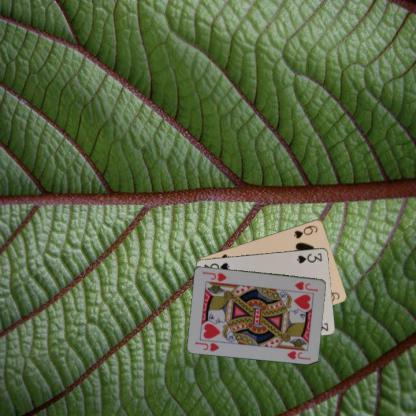3s: (294, 250, 324, 264)
6s: (291, 222, 319, 240)
Jh: (193, 339, 220, 353), (292, 279, 319, 292)
